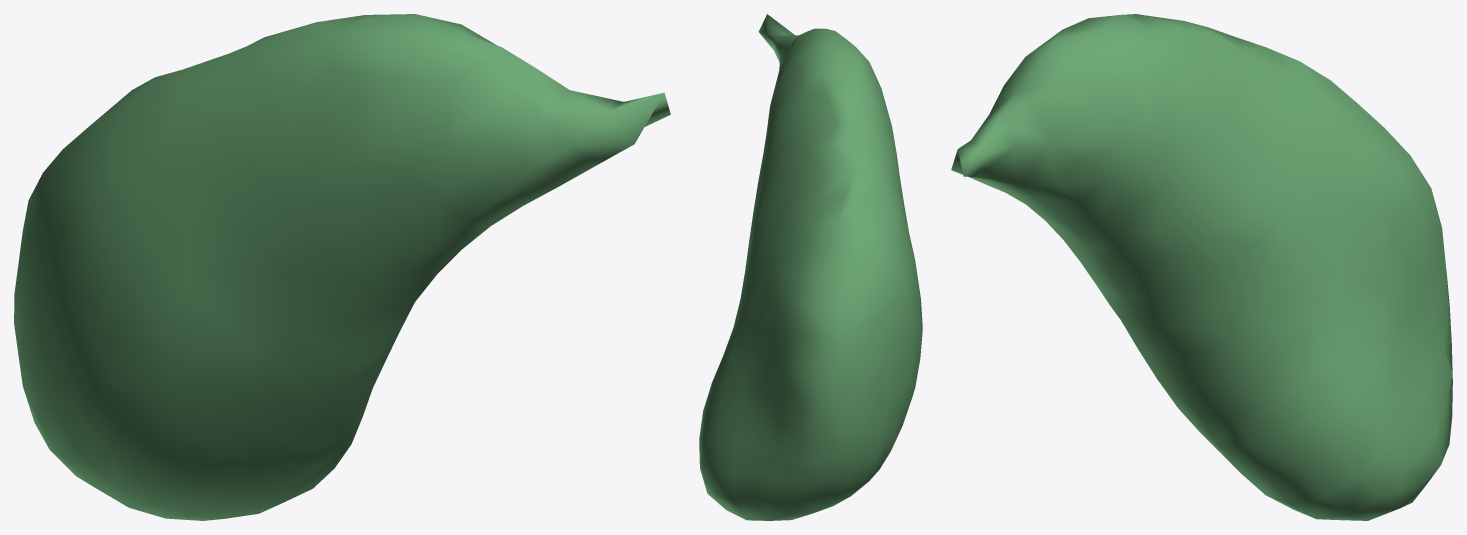
3 views of the same model, side by side, from view 1: azimuth 30°, elevation 25°; view 2: azimuth 150°, elevation 25°; view 3: azimuth 270°, elevation 25° (orthographic). The views are drawn at different scales.
Parts seen in each view (by area): view 1: 胆囊; view 2: 胆囊; view 3: 胆囊.
Boxes of the visible parts, x1=… form: 胆囊: x1=14, y1=14, x2=670, y2=520; 胆囊: x1=699, y1=14, x2=922, y2=520; 胆囊: x1=951, y1=14, x2=1452, y2=520.
Size of the model in its own units: 0.0534 by 0.0711 by 0.064.
